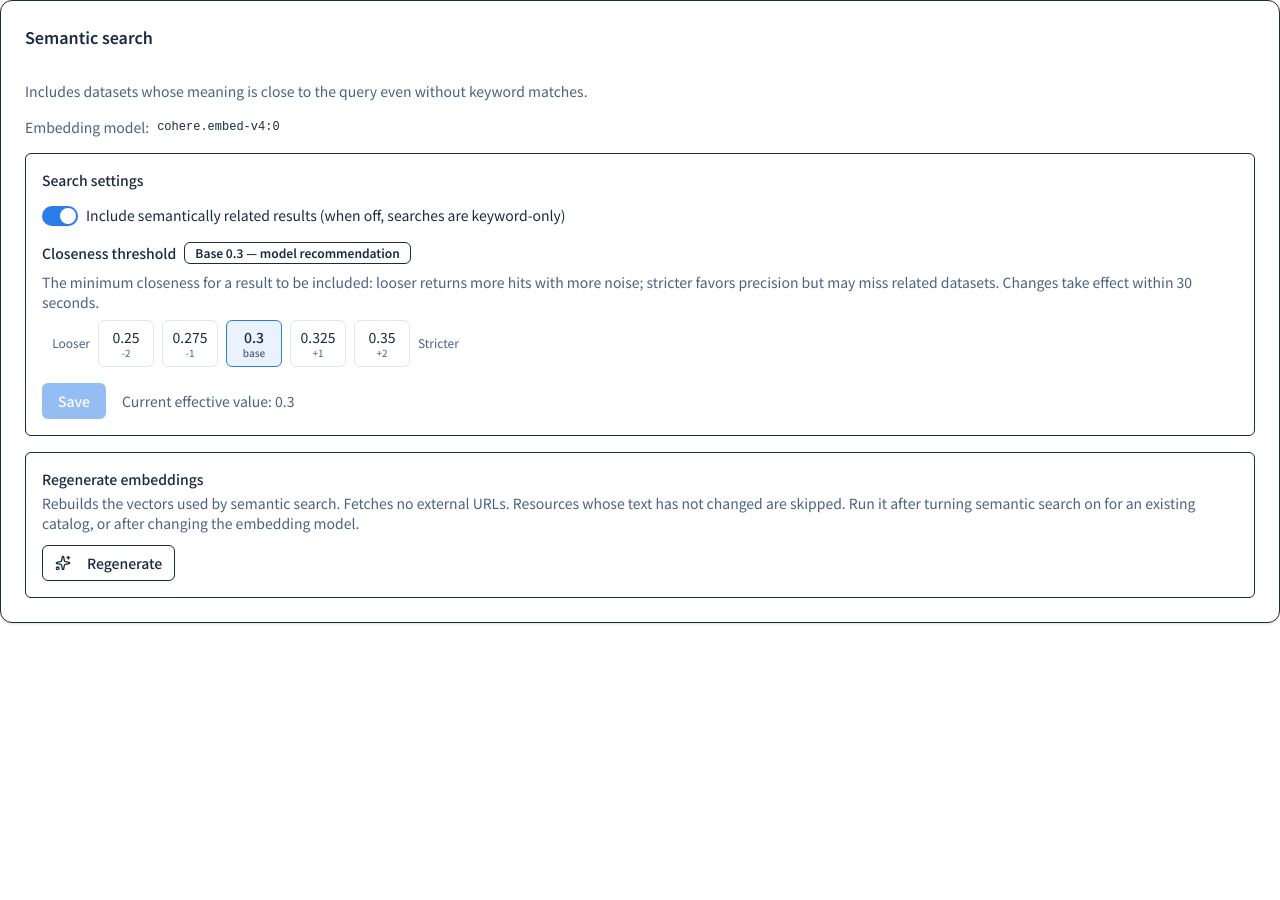
Test: SemanticSearchCard › says so when the regeneration cannot be queued
Expected: the text "cohere.embed-v4:0" is shown, [157,119,280,135]
Step 1. Click the button "Regenerate" → x=109, y=562, box [42,544,175,580]
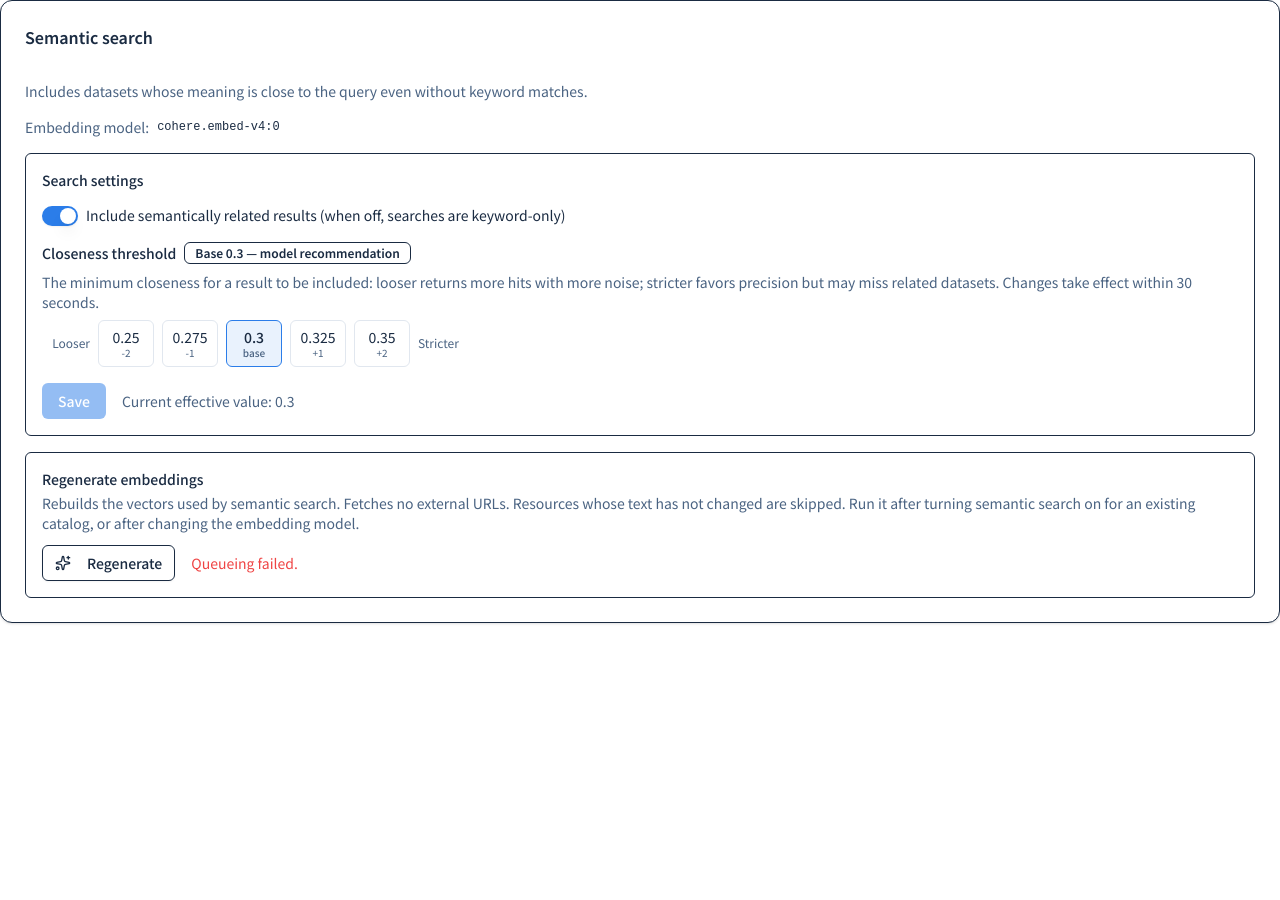
Expected: the message "Queueing failed." is shown, [191,552,298,572]
